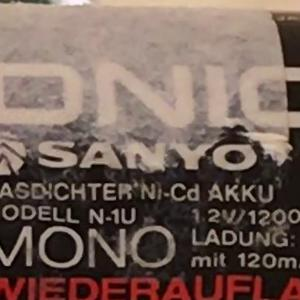keyword: (125, 174, 195, 208)
